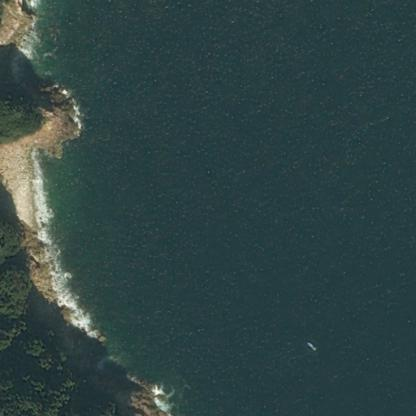ship: (290, 341, 299, 350)
